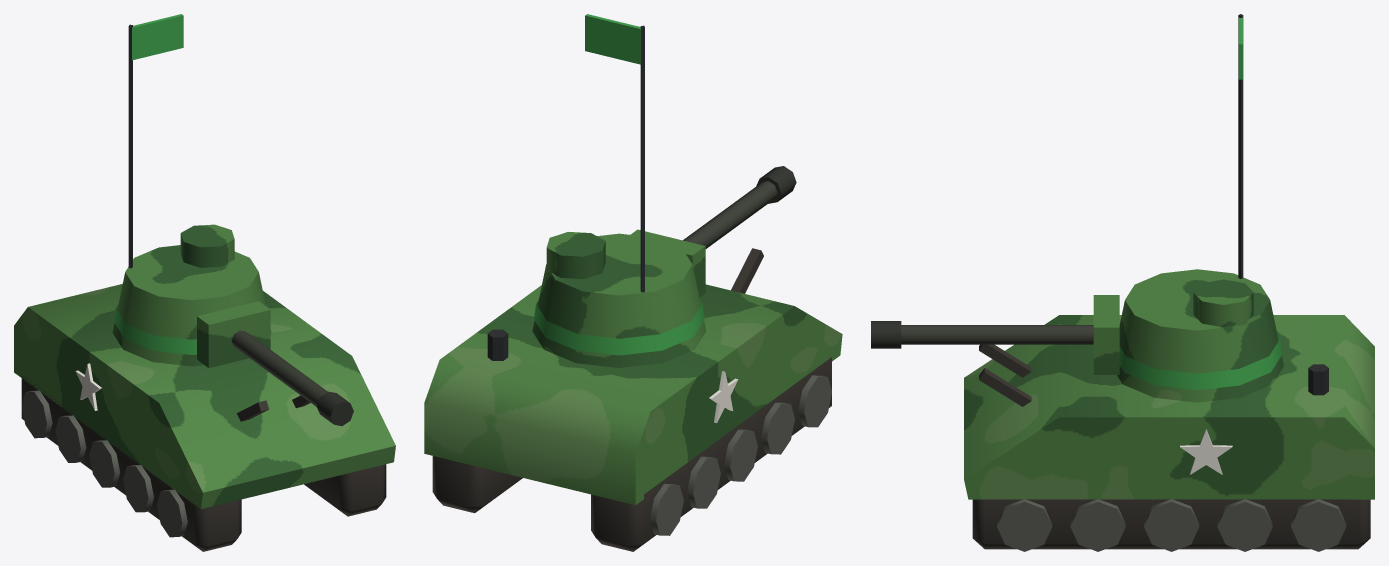
Rendered from assault_dl6_green.glb.
3 renders of one model, left to right at view 1: azimuth 30°, elevation 25°; view 2: azimuth 150°, elevation 25°; view 3: azimuth 270°, elevation 25°, orthographic. The views are drawn at different scales.
Visible parts, largest first — view 1: assault_dl6_green; view 2: assault_dl6_green; view 3: assault_dl6_green.
Part boxes in pixels (bbox=[...]): assault_dl6_green: bbox=[14, 14, 395, 551]; assault_dl6_green: bbox=[424, 14, 842, 551]; assault_dl6_green: bbox=[871, 14, 1374, 551].
Size of the model in its own units: 0.296 by 0.595 by 0.5825.
Materials: 1 (1 with a texture image).
